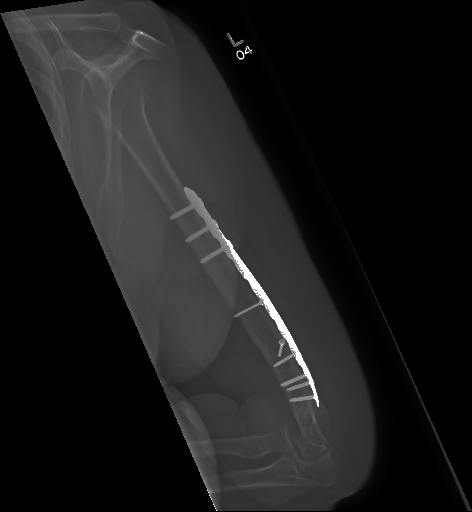implant: (168, 184, 235, 269), (271, 324, 323, 410), (230, 280, 278, 324)
